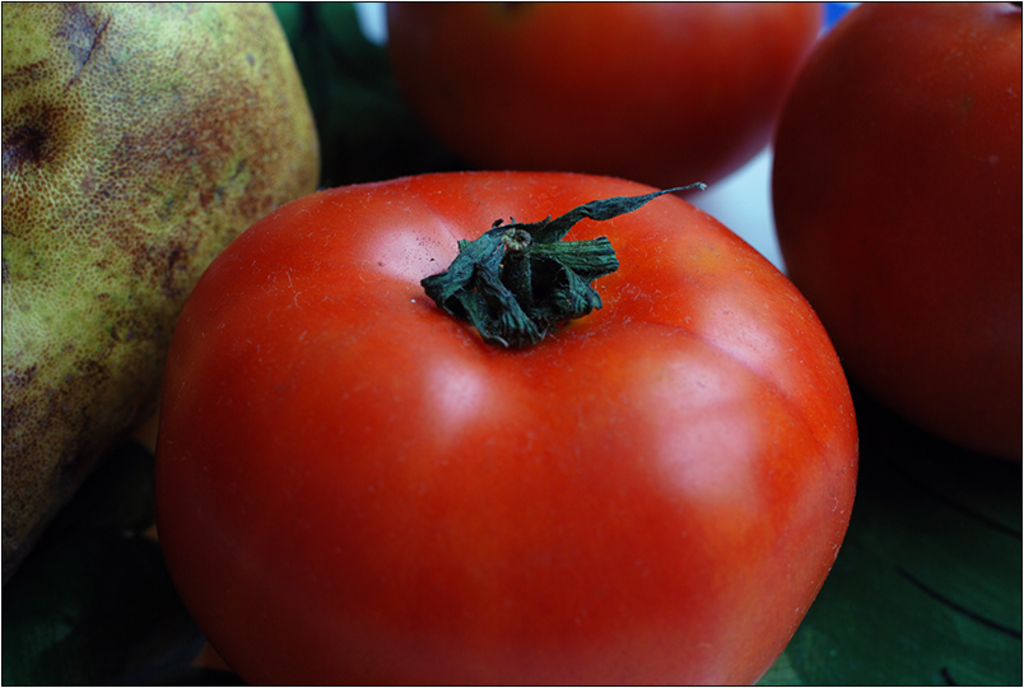Tomato: (155, 140, 855, 688), (769, 2, 1022, 459), (389, 0, 818, 197)
